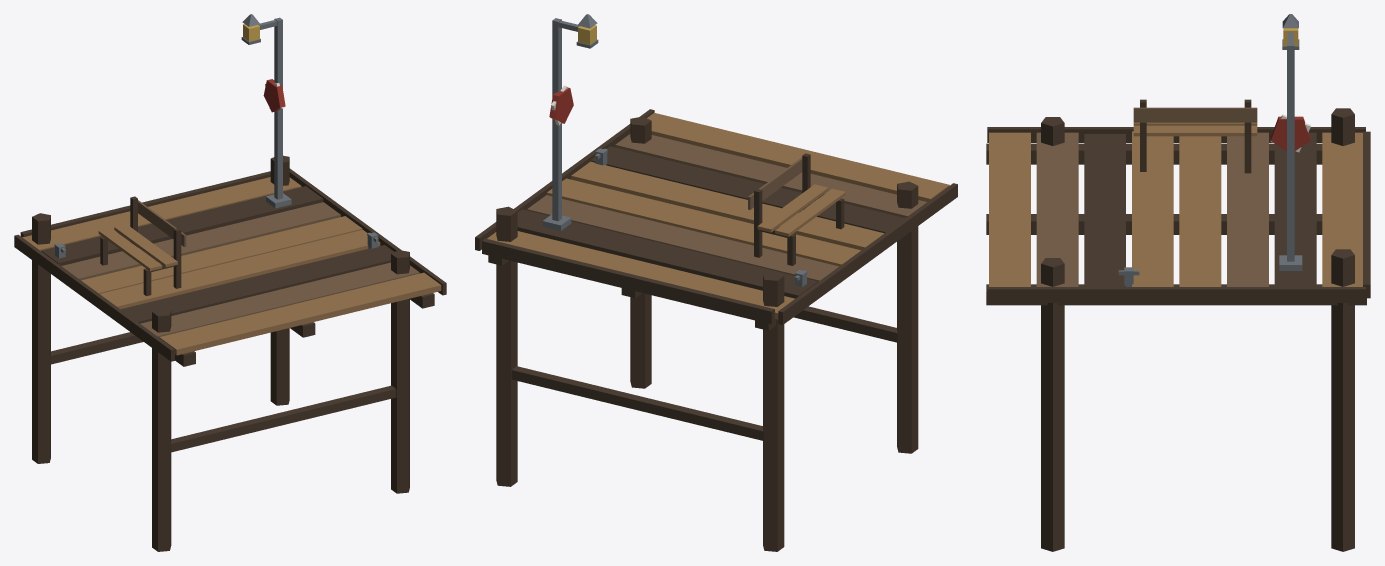
File: dock_end.glb
The picture shows the model from 3 angles, left to right: view 1: azimuth 30°, elevation 25°; view 2: azimuth 150°, elevation 25°; view 3: azimuth 270°, elevation 25°; orthographic projection. The views are drawn at different scales.
Visible parts, largest first — view 1: dock_end; view 2: dock_end; view 3: dock_end.
Part boxes in pixels (x1,y1,x2,y2): dock_end: [14, 14, 446, 551]; dock_end: [475, 14, 957, 551]; dock_end: [986, 14, 1370, 551].
Size of what is drawn, in the model's own units: 4.04 by 5.82 by 4.04.
2 materials, 2 textured.
